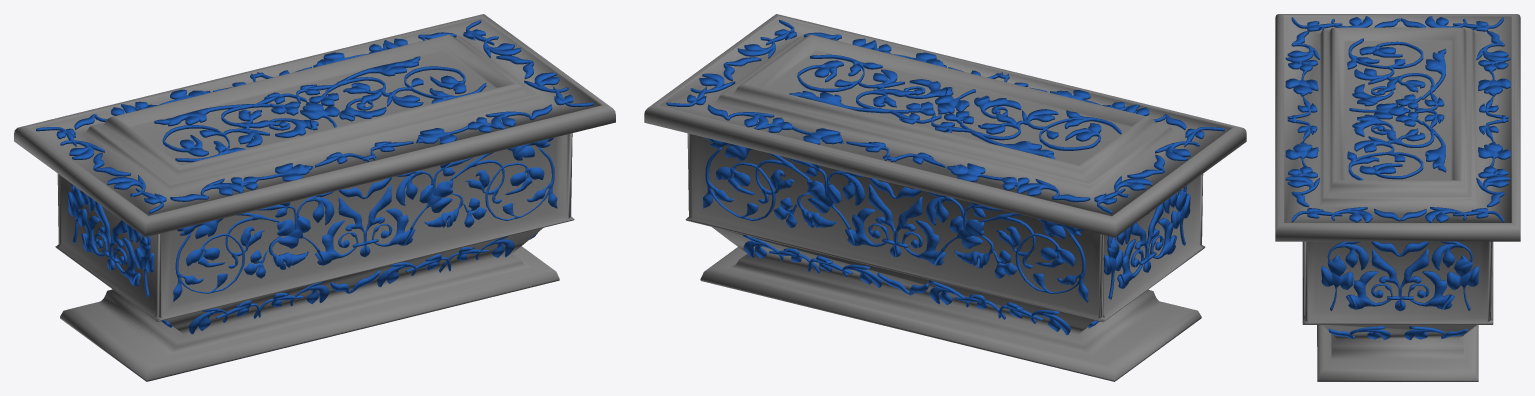
3 renders of one model, left to right at view 1: azimuth 30°, elevation 25°; view 2: azimuth 150°, elevation 25°; view 3: azimuth 270°, elevation 25°, orthographic. The views are drawn at different scales.
Visible parts, largest first — view 1: Main_Box, Inlay_011, Inlay_10, Inlay_042, Inlay_043, Inlay_032, Inlay_049, Inlay_9, Inlay_012, Inlay_017, Inlay_1, Inlay_020 (+14 smaller); view 2: Main_Box, Inlay_154, Inlay_155, Inlay_049, Inlay_042, Inlay_153, Inlay_156, Inlay_032, Inlay_043, Inlay_161, Inlay_145, Inlay_164 (+14 smaller); view 3: Main_Box, Inlay_049, Inlay_042, Inlay_032, Inlay_043, Inlay_130, Inlay_136, Inlay_131, Inlay_132, Inlay_127, Inlay_133, Inlay_040 (+37 smaller).
Boxes of the visible parts, x1=… form: Main_Box: x1=14, y1=14, x2=615, y2=381; Inlay_011: x1=485, y1=147, x2=557, y2=220; Inlay_10: x1=173, y1=232, x2=244, y2=301; Inlay_042: x1=162, y1=125, x2=245, y2=162; Inlay_043: x1=325, y1=56, x2=420, y2=96; Inlay_032: x1=154, y1=103, x2=274, y2=128; Inlay_049: x1=404, y1=66, x2=486, y2=103; Inlay_9: x1=177, y1=212, x2=279, y2=268; Inlay_012: x1=450, y1=137, x2=553, y2=203; Inlay_017: x1=410, y1=179, x2=453, y2=229; Inlay_1: x1=315, y1=220, x2=358, y2=265; Inlay_020: x1=372, y1=208, x2=415, y2=246; Main_Box: x1=644, y1=14, x2=1246, y2=381; Inlay_154: x1=1015, y1=232, x2=1088, y2=302; Inlay_155: x1=703, y1=147, x2=775, y2=221; Inlay_049: x1=797, y1=54, x2=882, y2=92; Inlay_042: x1=1039, y1=110, x2=1121, y2=150; Inlay_153: x1=980, y1=212, x2=1083, y2=268; Inlay_156: x1=706, y1=138, x2=810, y2=203; Inlay_032: x1=960, y1=120, x2=1055, y2=159; Inlay_043: x1=789, y1=86, x2=908, y2=113; Inlay_161: x1=807, y1=179, x2=850, y2=229; Inlay_145: x1=902, y1=220, x2=946, y2=265; Inlay_164: x1=845, y1=208, x2=889, y2=246; Main_Box: x1=1275, y1=14, x2=1520, y2=381; Inlay_049: x1=1347, y1=151, x2=1423, y2=180; Inlay_042: x1=1347, y1=38, x2=1423, y2=69; Inlay_032: x1=1387, y1=48, x2=1446, y2=99; Inlay_043: x1=1387, y1=121, x2=1446, y2=172; Inlay_130: x1=1346, y1=271, x2=1392, y2=309; Inlay_136: x1=1408, y1=271, x2=1454, y2=309; Inlay_131: x1=1321, y1=254, x2=1353, y2=310; Inlay_132: x1=1447, y1=254, x2=1479, y2=310; Inlay_127: x1=1327, y1=241, x2=1368, y2=270; Inlay_133: x1=1431, y1=241, x2=1472, y2=270; Inlay_040: x1=1352, y1=84, x2=1393, y2=106.
Bounding box in the file's own units: 97.78 × 39.3 × 47.15.
